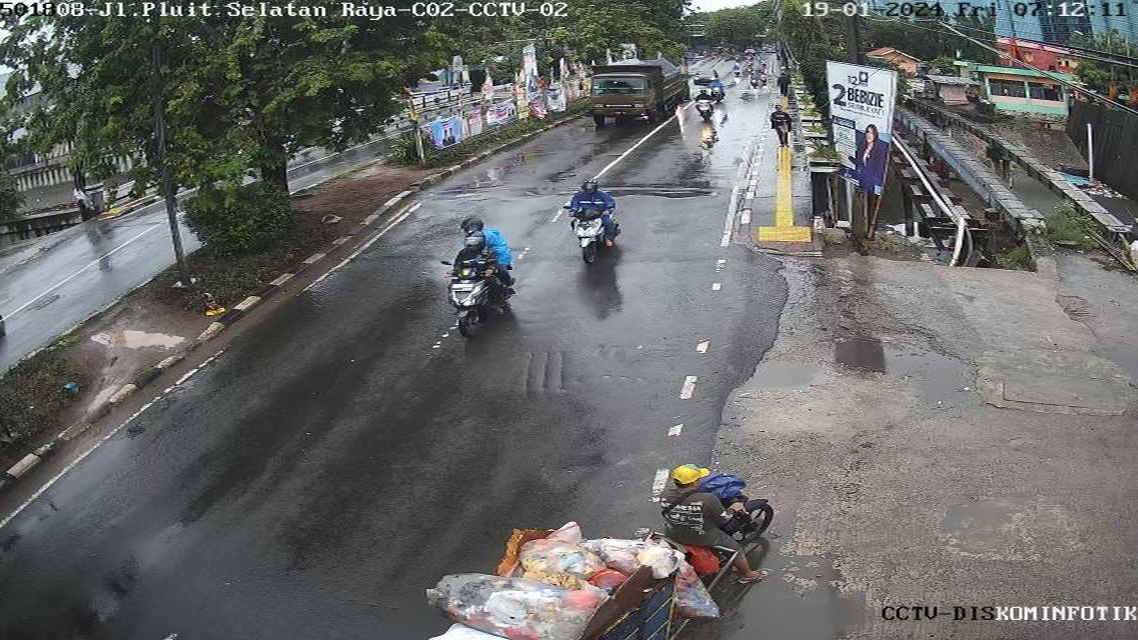Gerobak: (439, 521, 752, 640)
